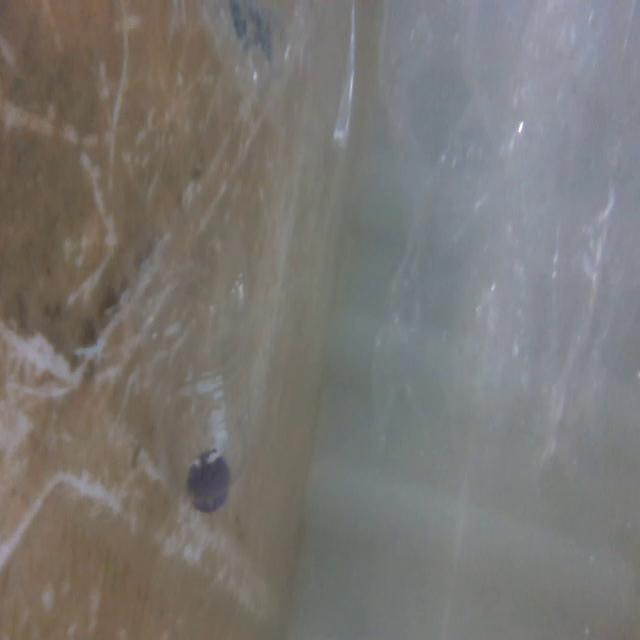plastic bags: (370, 0, 640, 485), (209, 0, 362, 165)
plastic bottle: (113, 183, 258, 546)
